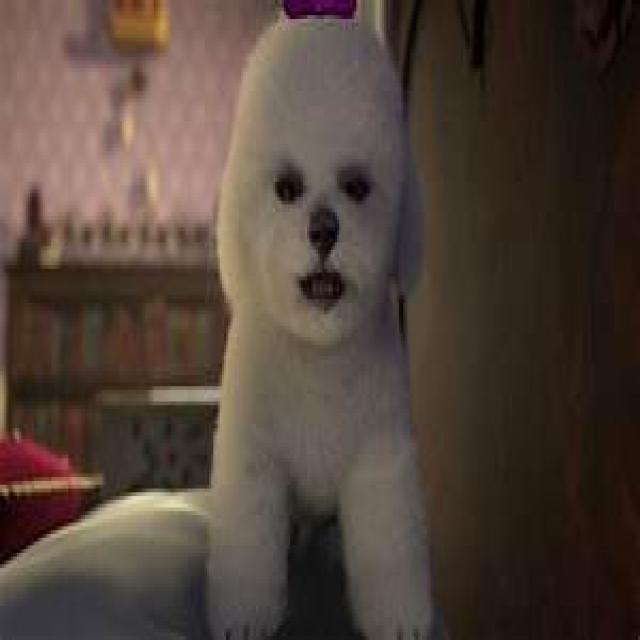dog: (210, 20, 430, 638)
